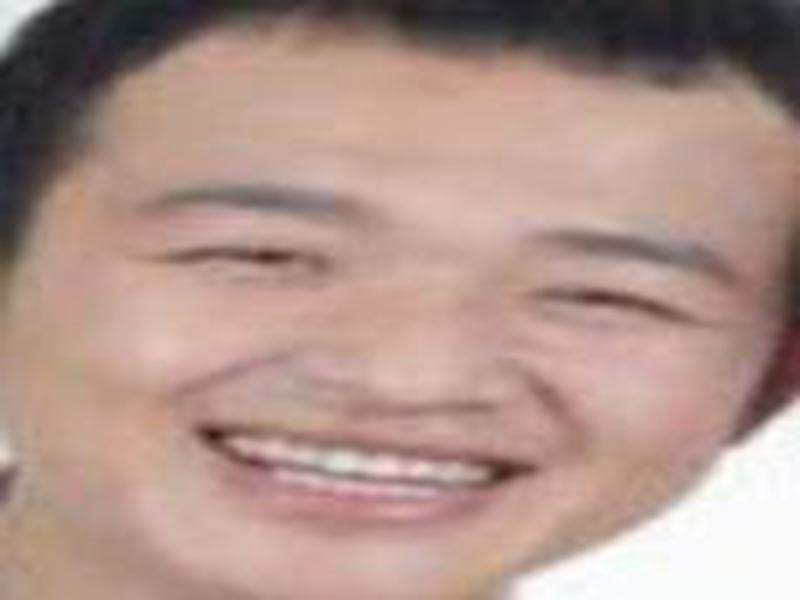without_mask: (6, 21, 780, 600)
